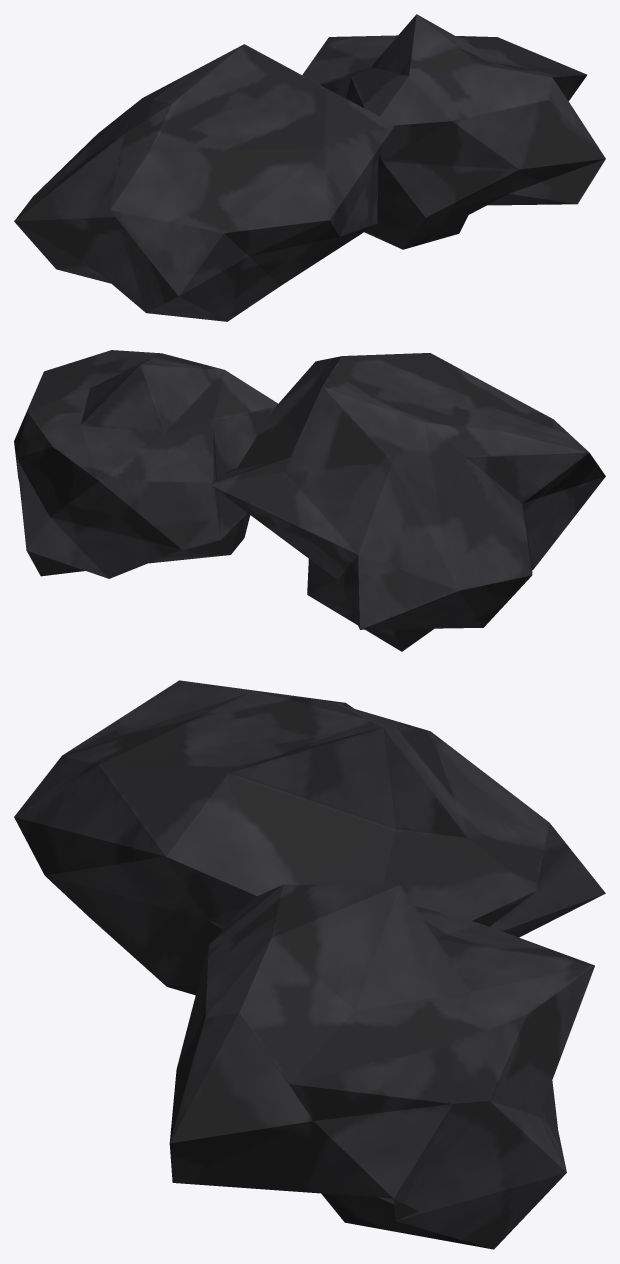
File: coal_2.glb
The picture shows the model from 3 angles, top to bottom: view 1: azimuth 30°, elevation 25°; view 2: azimuth 150°, elevation 25°; view 3: azimuth 270°, elevation 25°; orthographic projection. The views are drawn at different scales.
Visible parts, largest first — view 1: stone_2; view 2: stone_2; view 3: stone_2.
Boxes of the visible parts, x1,y1,x2,y2 form: stone_2: (14,14,605,321); stone_2: (14,350,605,651); stone_2: (14,680,605,1249).
Size of the model in its own units: 0.5122 by 0.2287 by 0.3266.
Materials: 1 (1 with a texture image).
